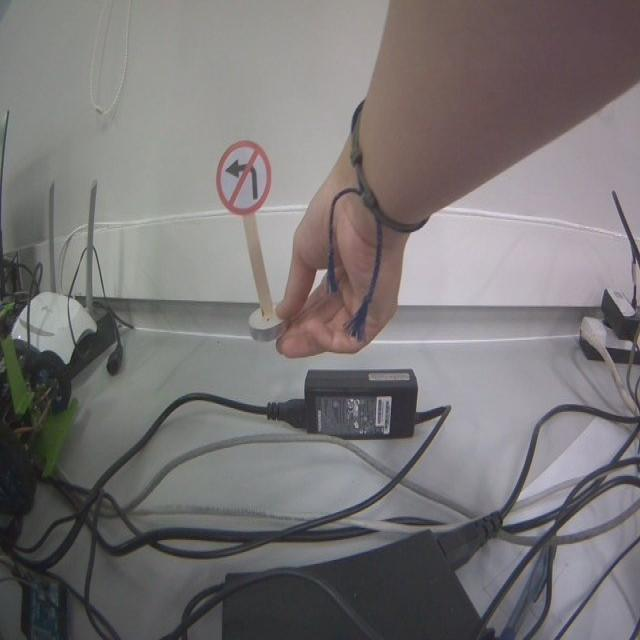Dilarang Belok Kiri: (216, 138, 272, 215)
